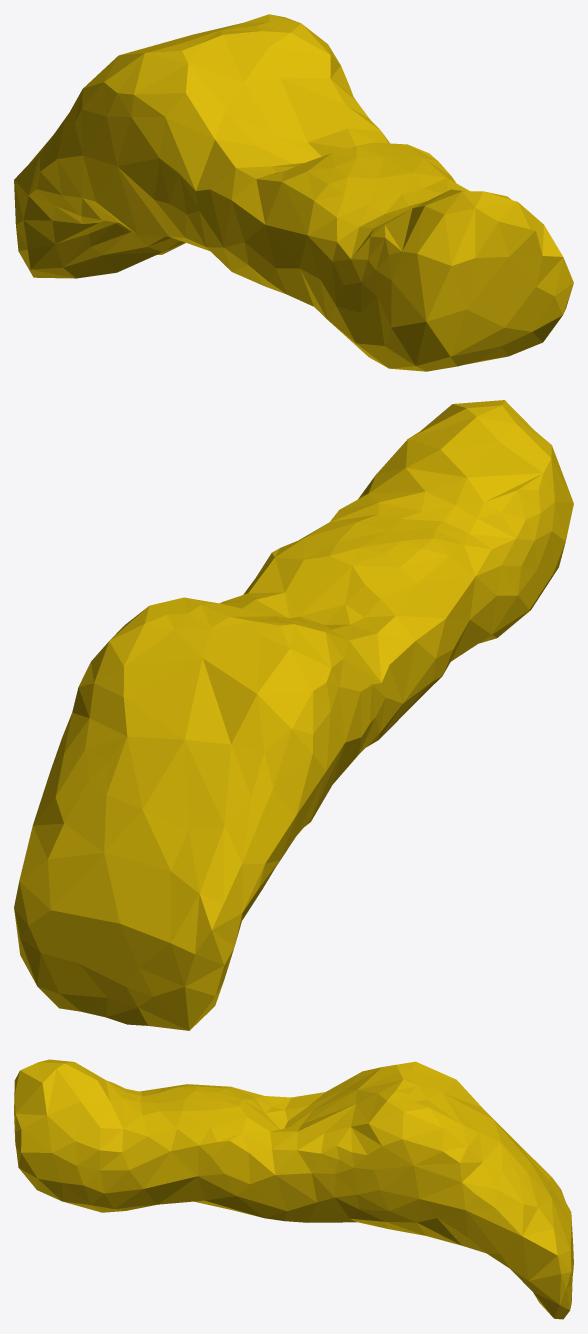
Rendered from 237-23b-area 23b of cortex-('1.0000', '0.8431', '0.0000').obj.
3 views of the same model, one above another, from view 1: azimuth 30°, elevation 25°; view 2: azimuth 150°, elevation 25°; view 3: azimuth 270°, elevation 25° (orthographic). The views are drawn at different scales.
Size of the model in its own units: 32.15 by 43.91 by 94.06.
